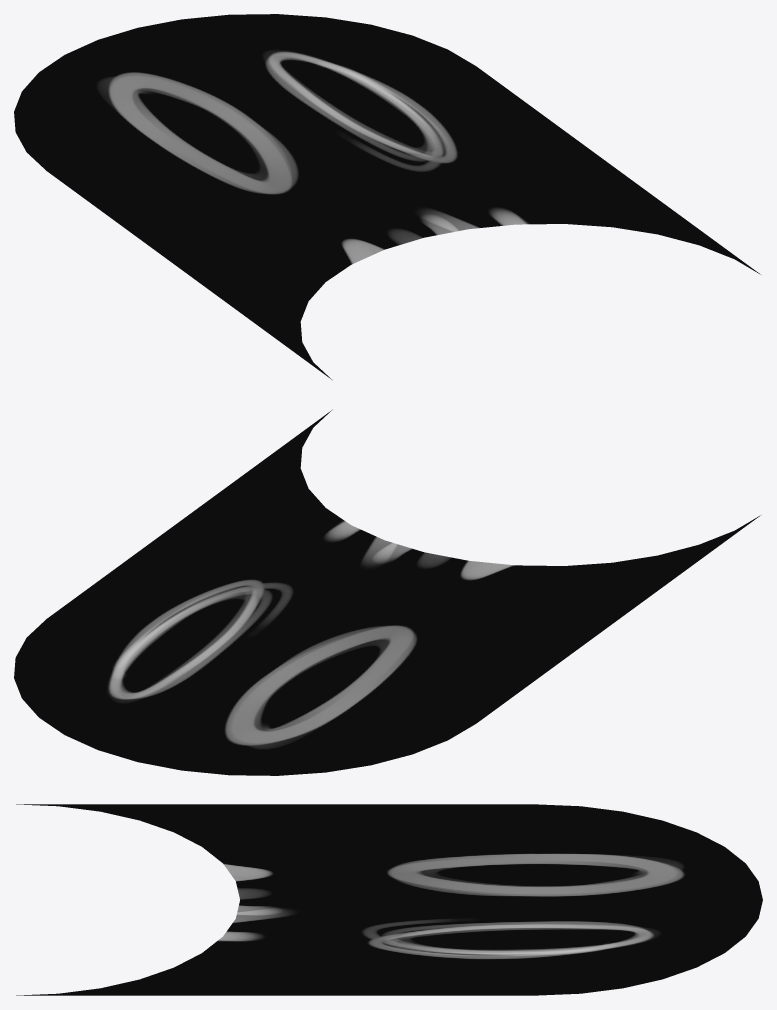
Rendered from Sword_Ego_Back2.fbx.
3 views of the same model, one above another, from view 1: azimuth 30°, elevation 25°; view 2: azimuth 150°, elevation 25°; view 3: azimuth 270°, elevation 25° (orthographic). The views are drawn at different scales.
Visible parts, largest first — view 1: Cylinder.003; view 2: Cylinder.003; view 3: Cylinder.003.
Part boxes in pixels (left/top/right/bottom): Cylinder.003: left=14, top=14, right=760, bottom=380; Cylinder.003: left=14, top=409, right=760, bottom=775; Cylinder.003: left=16, top=804, right=762, bottom=995.
Size of the model in its own units: 331 by 200 by 0.
